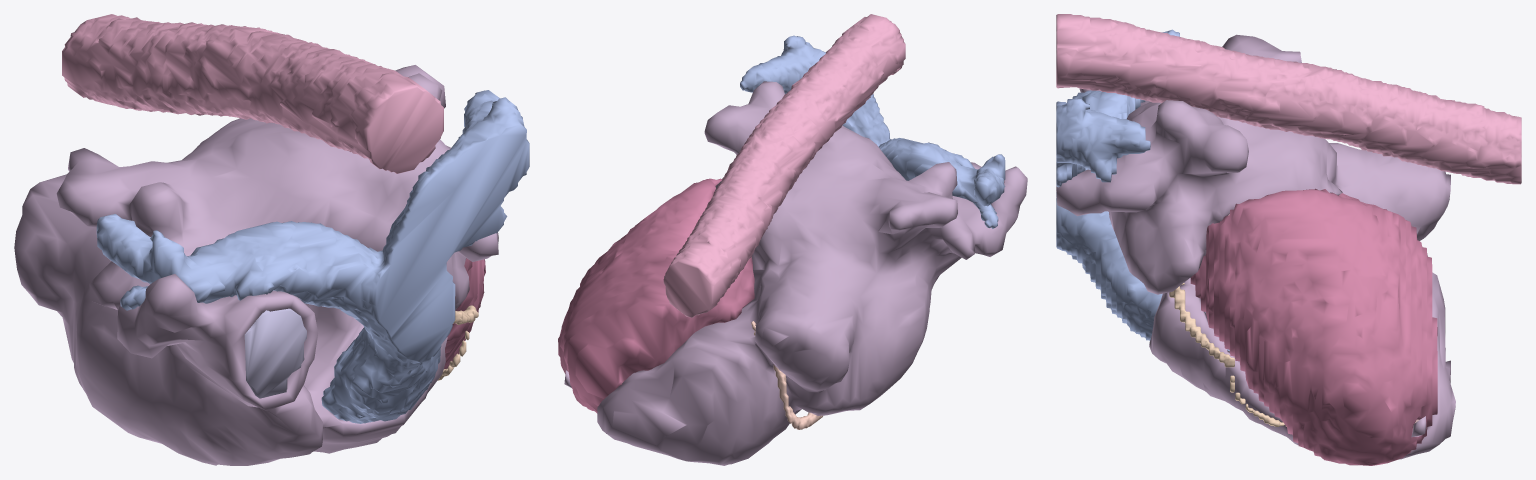
3 views of the same model, side by side, from view 1: azimuth 30°, elevation 25°; view 2: azimuth 150°, elevation 25°; view 3: azimuth 270°, elevation 25° (orthographic). The views are drawn at different scales.
Parts seen in each view (by area): view 1: heart-wall, pulmonary-artery, aorta, right-atrium, myocardium, left-coronary-artery; view 2: heart-wall, aorta, myocardium, pulmonary-artery, right-coronary-artery; view 3: myocardium, heart-wall, aorta, pulmonary-artery, left-coronary-artery.
Boxes of the visible parts, bbox=[...] form: heart-wall: bbox=[14, 65, 498, 465]; pulmonary-artery: bbox=[96, 90, 529, 423]; aorta: bbox=[62, 14, 443, 173]; right-atrium: bbox=[244, 308, 306, 398]; myocardium: bbox=[444, 258, 485, 368]; left-coronary-artery: bbox=[438, 305, 478, 380]; heart-wall: bbox=[564, 81, 1027, 465]; aorta: bbox=[663, 14, 905, 317]; myocardium: bbox=[558, 178, 754, 413]; pulmonary-artery: bbox=[740, 35, 1005, 228]; right-coronary-artery: bbox=[751, 321, 822, 429]; myocardium: bbox=[1190, 188, 1437, 465]; heart-wall: bbox=[1056, 34, 1455, 459]; aorta: bbox=[1056, 14, 1521, 184]; pulmonary-artery: bbox=[1056, 29, 1179, 340]; left-coronary-artery: bbox=[1169, 283, 1286, 426].
Size of the model in its own units: 138 by 130 by 142.
